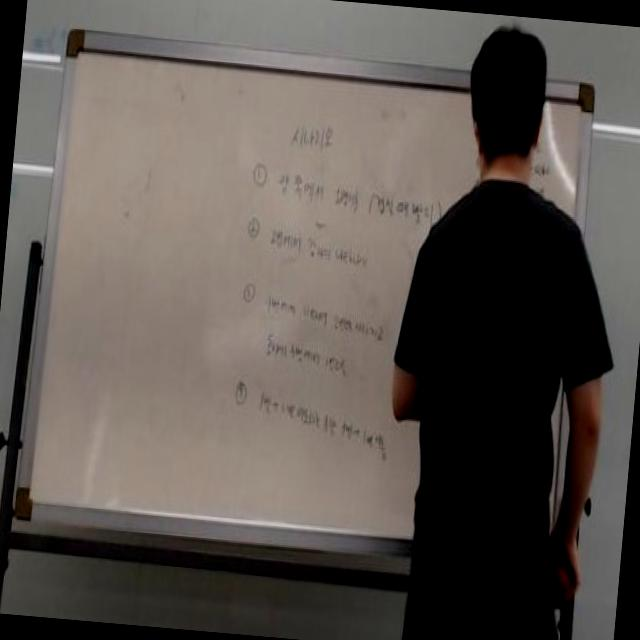Instructor: (402, 27, 598, 622)
White-board: (22, 38, 588, 556)
